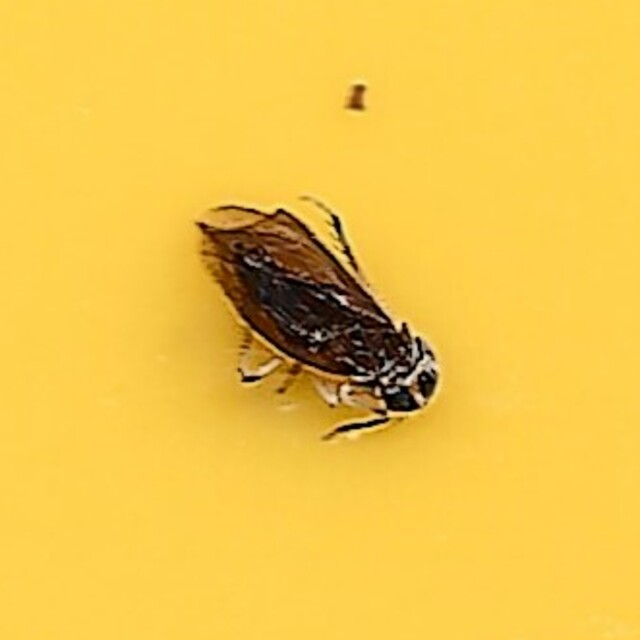Hemiptera: (193, 197, 447, 443)
